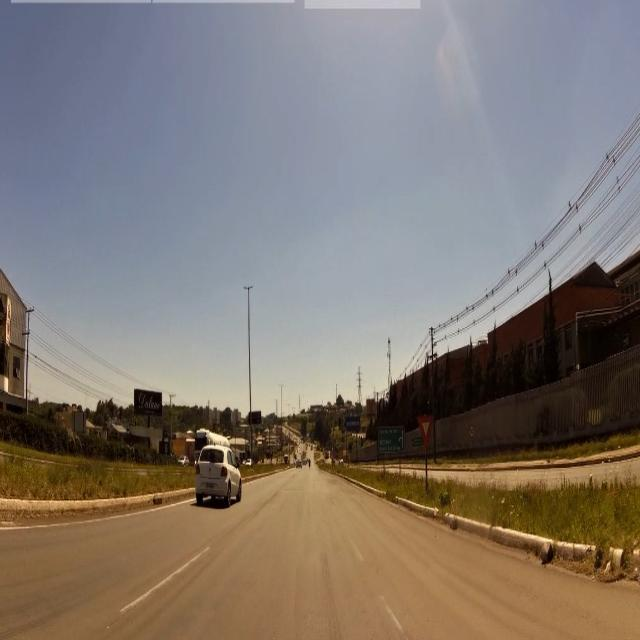R-2: (417, 415, 436, 445)
